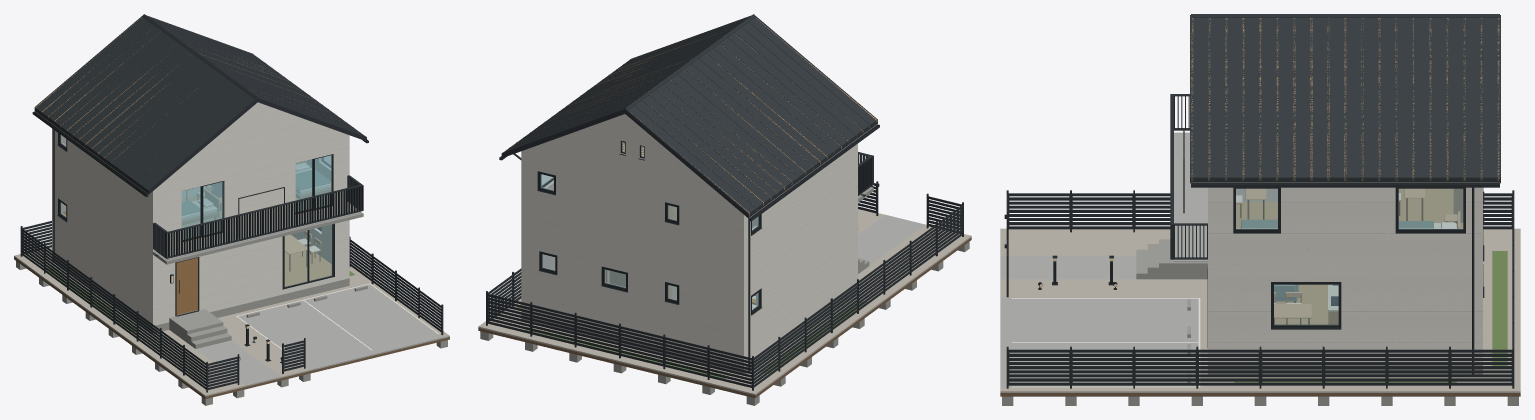
File: house_3d.glb
3 views of the same model, side by side, from view 1: azimuth 30°, elevation 25°; view 2: azimuth 150°, elevation 25°; view 3: azimuth 270°, elevation 25° (orthographic). The views are drawn at different scales.
Parts seen in each view (by area): view 1: roof:west_plane, yard:parking:paving, F2:exterior:cladding:south, F1:exterior:cladding:south, F1:exterior:cladding:west, yard:ground_surfaces:gravel, F2:exterior:cladding:west, roof:cladding:south_gable, roof:east_plane, F1:W01:glass, yard:entrance_path:paving, yard:soil:base (+33 smaller); view 2: roof:west_plane, F2:exterior:cladding:north, F1:exterior:cladding:north, F1:exterior:cladding:west, yard:ground_surfaces:gravel, F2:exterior:cladding:west, roof:cladding:north_gable, roof:east_plane, yard:entrance_path:paving, yard:soil:base, fence:panels:north_01, fence:panels:north_02 (+20 smaller); view 3: roof:east_plane, F1:exterior:cladding:east, F2:exterior:cladding:east, yard:ground_surfaces:gravel, yard:parking:paving, yard:entrance_path:paving, balcony:finish, F2:W02:glass, F1:W02:glass, F2:floor_slab, fence:panels:east_04, fence:panels:east_05 (+23 smaller).
Part boxes in pixels (left/top/right/bottom): roof:west_plane: left=35, top=16, right=254, bottom=193; yard:parking:paving: left=238, top=284, right=443, bottom=371; F2:exterior:cladding:south: left=152, top=133, right=349, bottom=255; F1:exterior:cladding:south: left=152, top=220, right=349, bottom=325; F1:exterior:cladding:west: left=52, top=182, right=152, bottom=323; yard:ground_surfaces:gravel: left=14, top=247, right=449, bottom=396; F2:exterior:cladding:west: left=52, top=129, right=152, bottom=255; roof:cladding:south_gable: left=171, top=102, right=344, bottom=175; roof:east_plane: left=147, top=16, right=364, bottom=135; F1:W01:glass: left=285, top=224, right=332, bottom=286; yard:entrance_path:paving: left=196, top=340, right=281, bottom=386; yard:soil:base: left=14, top=257, right=449, bottom=399; roof:west_plane: left=628, top=17, right=877, bottom=217; F2:exterior:cladding:north: left=521, top=149, right=744, bottom=287; F1:exterior:cladding:north: left=521, top=233, right=744, bottom=366; F1:exterior:cladding:west: left=744, top=204, right=857, bottom=366; yard:ground_surfaces:gravel: left=478, top=209, right=971, bottom=395; F2:exterior:cladding:west: left=744, top=143, right=857, bottom=286; roof:cladding:north_gable: left=527, top=114, right=722, bottom=197; roof:east_plane: left=503, top=16, right=749, bottom=152; yard:entrance_path:paving: left=858, top=214, right=925, bottom=265; yard:soil:base: left=478, top=237, right=971, bottom=398; fence:panels:north_01: left=487, top=294, right=530, bottom=333; fence:panels:north_02: left=531, top=304, right=574, bottom=344; roof:east_plane: left=1191, top=18, right=1499, bottom=182; F1:exterior:cladding:east: left=1208, top=269, right=1482, bottom=361; F2:exterior:cladding:east: left=1208, top=187, right=1482, bottom=269; yard:ground_surfaces:gravel: left=1000, top=228, right=1520, bottom=392; yard:parking:paving: left=1000, top=298, right=1198, bottom=387; yard:entrance_path:paving: left=1000, top=255, right=1136, bottom=279; balcony:finish: left=1174, top=133, right=1207, bottom=261; F2:W02:glass: left=1399, top=189, right=1462, bottom=229; F1:W02:glass: left=1274, top=285, right=1338, bottom=324; F2:floor_slab: left=1236, top=188, right=1463, bottom=228; fence:panels:east_04: left=1198, top=349, right=1259, bottom=385; fence:panels:east_05: left=1261, top=349, right=1322, bottom=385.
Bounding box in the file's own units: 10.19 × 9.1 × 13.78.
Materials: 1106 (11 with a texture image).
